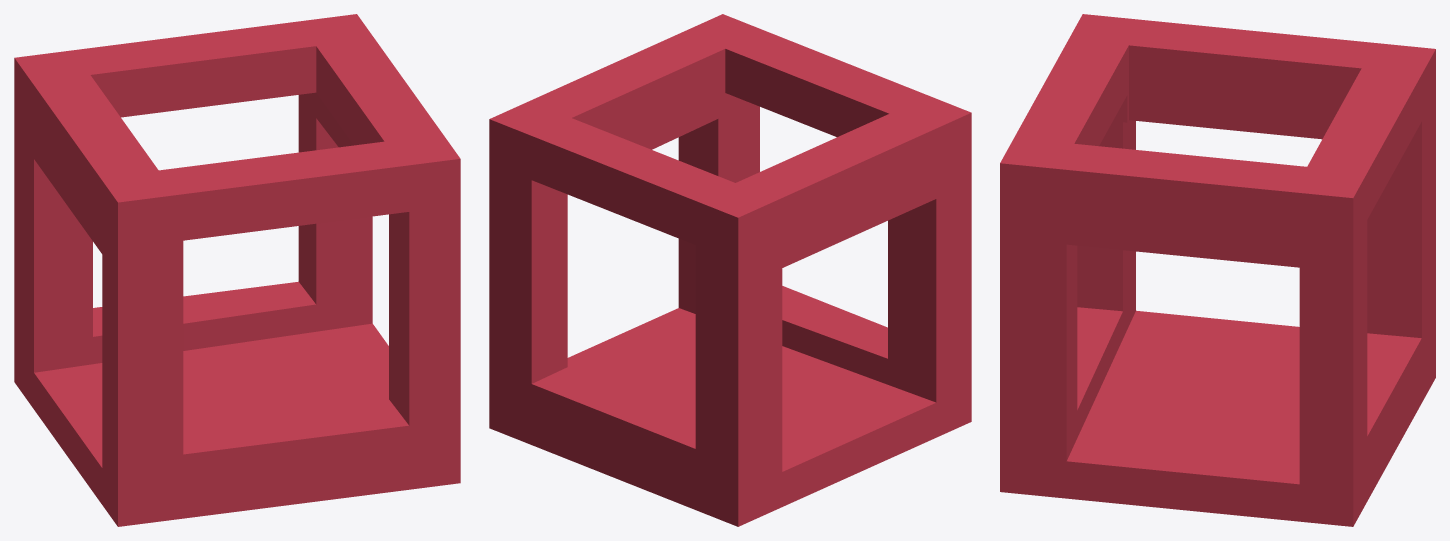
3 views of the same model, side by side, from view 1: azimuth 30°, elevation 25°; view 2: azimuth 150°, elevation 25°; view 3: azimuth 270°, elevation 25° (orthographic). The views are drawn at different scales.
Parts seen in each view (by area): view 1: Cube_001; view 2: Cube_001; view 3: Cube_001.
Part boxes in pixels (bbox=[...]): Cube_001: bbox=[14, 14, 460, 526]; Cube_001: bbox=[489, 14, 971, 526]; Cube_001: bbox=[1000, 14, 1435, 526].
Size of what is drawn, in the model's own units: 2.4 by 2.4 by 2.
